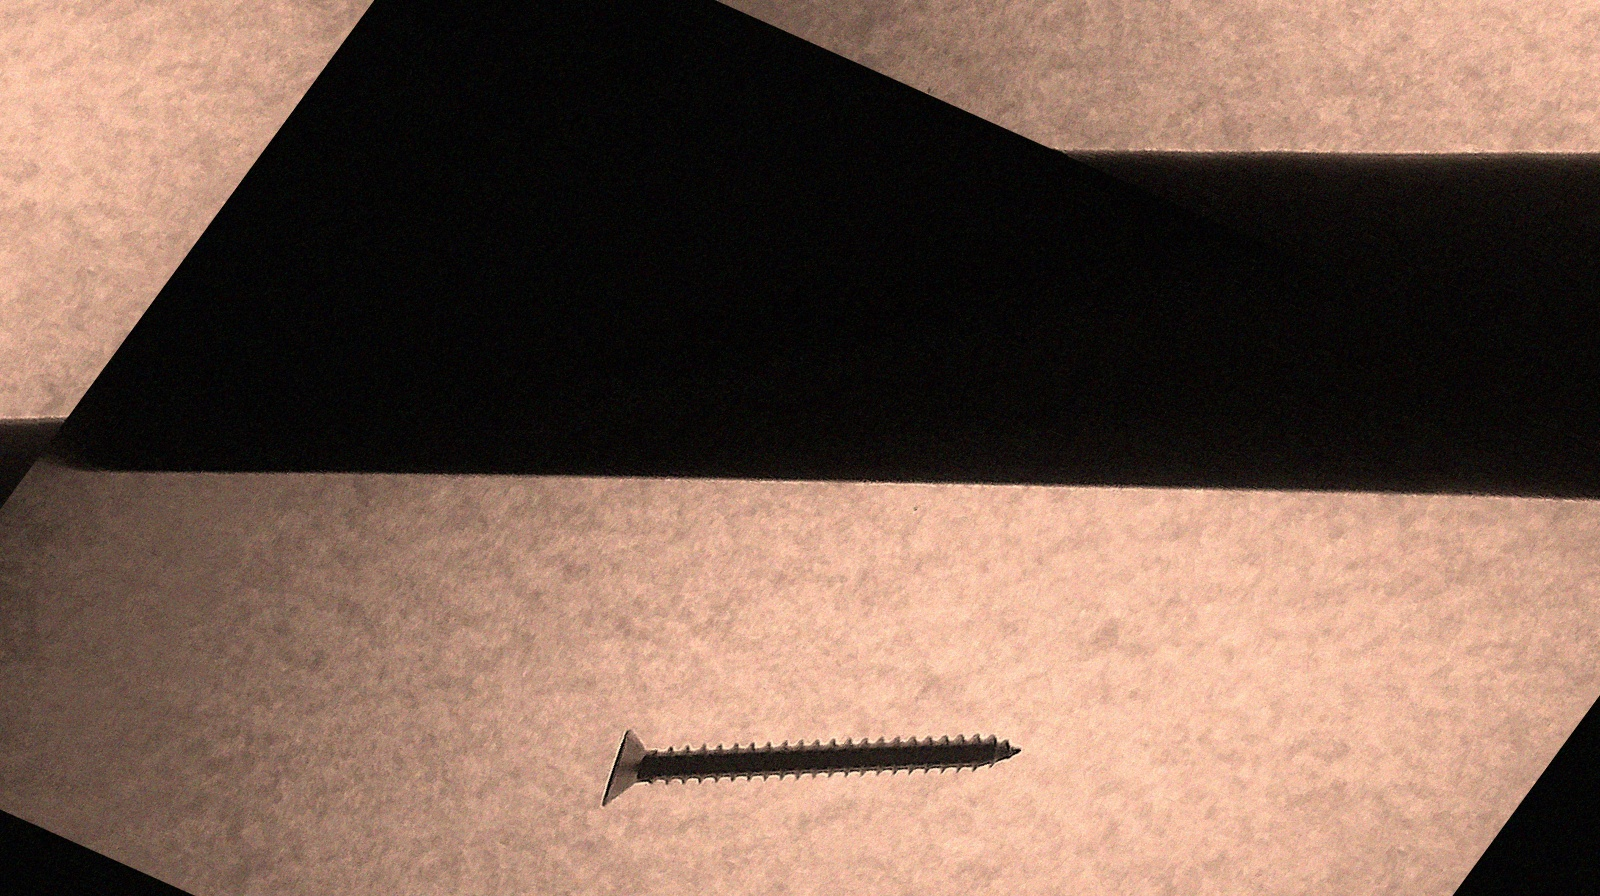S002: (553, 585, 1058, 895)
